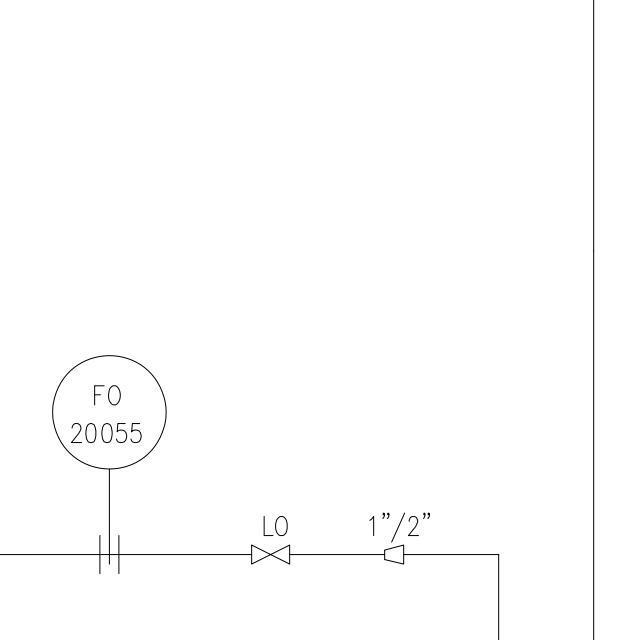GV: (242, 542, 298, 571)
SP: (378, 542, 408, 569)
